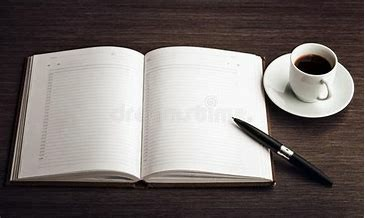pen: (231, 116, 337, 191)
